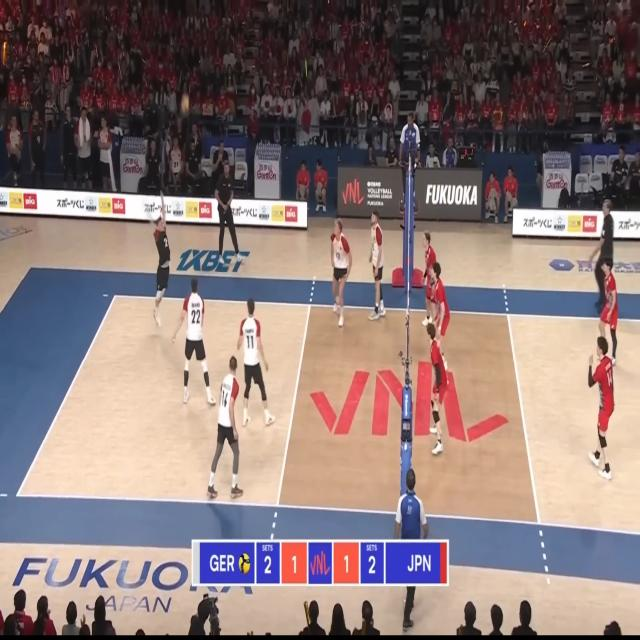ball: (182, 96, 188, 113)
